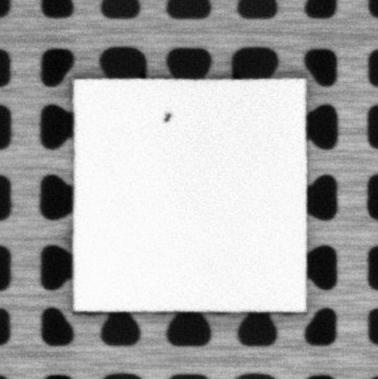DIE_INK: (161, 112, 173, 121)
